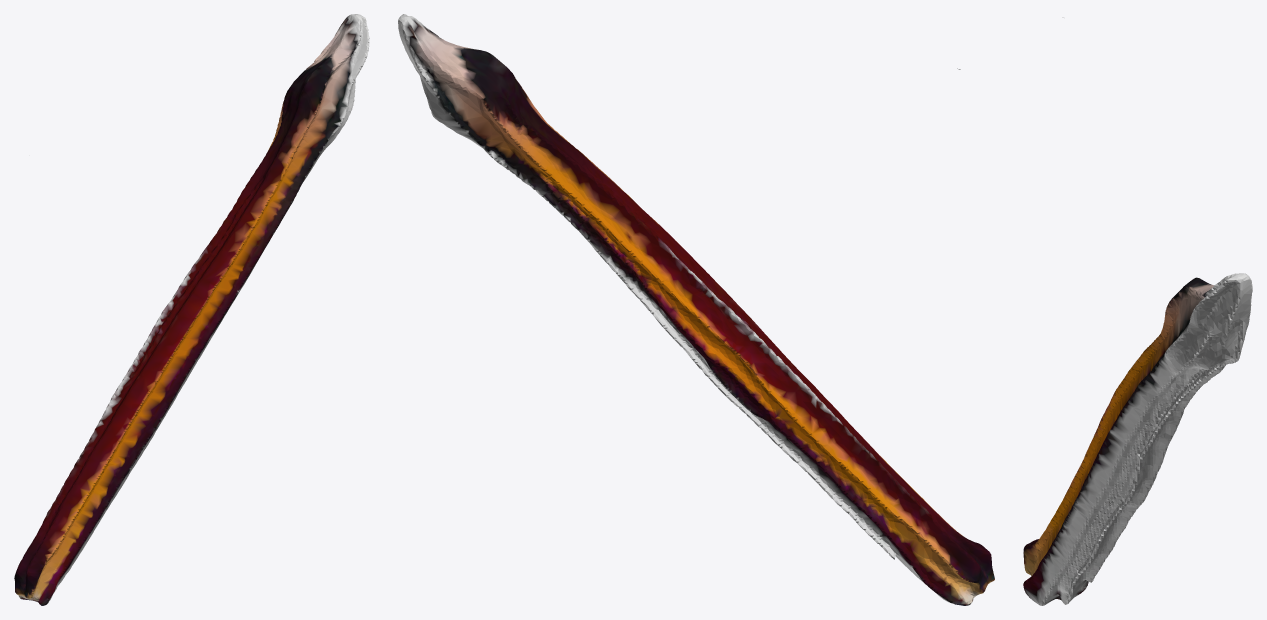
The model's file is lspear.glb.
3 views of the same model, side by side, from view 1: azimuth 30°, elevation 25°; view 2: azimuth 150°, elevation 25°; view 3: azimuth 270°, elevation 25° (orthographic). The views are drawn at different scales.
Visible parts, largest first — view 1: geometry_0; view 2: geometry_0; view 3: geometry_0.
Boxes of the visible parts, <box> form: geometry_0: <box>14,14,369,605</box>; geometry_0: <box>398,14,994,605</box>; geometry_0: <box>1023,17,1252,605</box>.
Bounding box in the file's own units: 0.875 × 0.894 × 0.3185.
